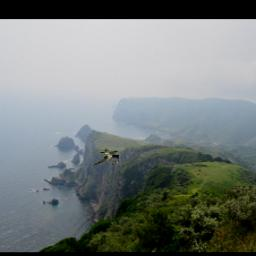Swallow: (91, 149, 120, 167)
